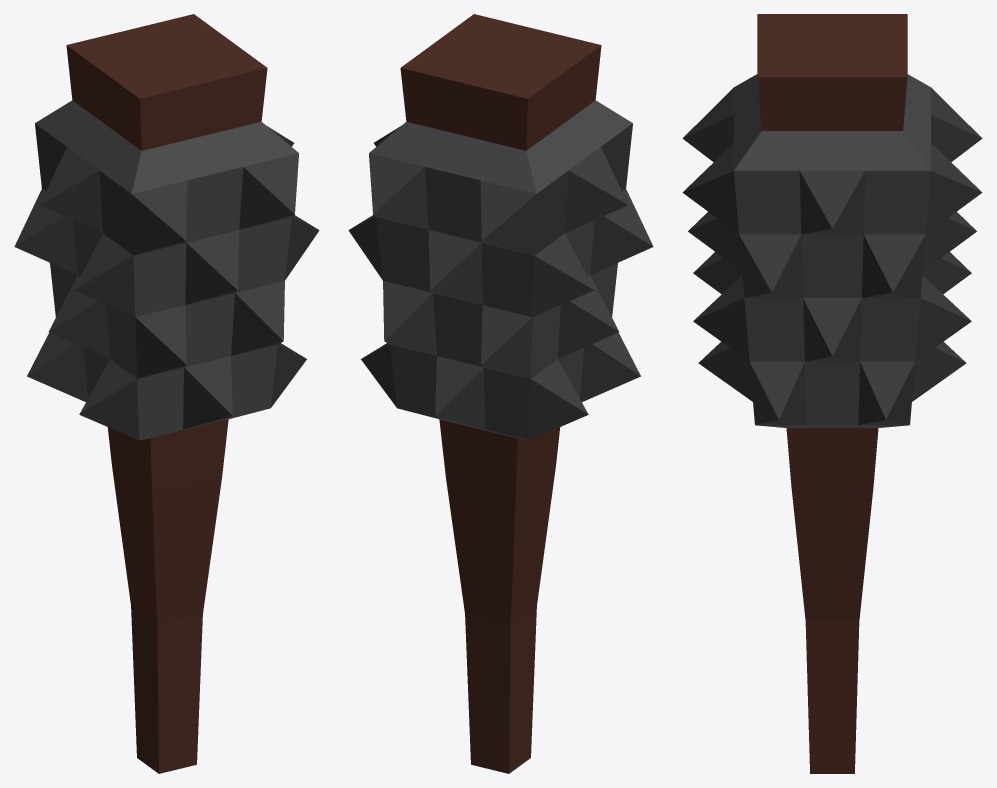
File: SpikeClub.fbx
3 views of the same model, side by side, from view 1: azimuth 30°, elevation 25°; view 2: azimuth 150°, elevation 25°; view 3: azimuth 270°, elevation 25° (orthographic).
Visible parts, largest first — view 1: SpikeClub:Mesh; view 2: SpikeClub:Mesh; view 3: SpikeClub:Mesh.
Part boxes in pixels (bbox=[...]): SpikeClub:Mesh: bbox=[14, 14, 319, 773]; SpikeClub:Mesh: bbox=[348, 14, 653, 773]; SpikeClub:Mesh: bbox=[682, 14, 982, 773].
Size of the model in its own units: 0.5907 by 1.56 by 0.5907.
